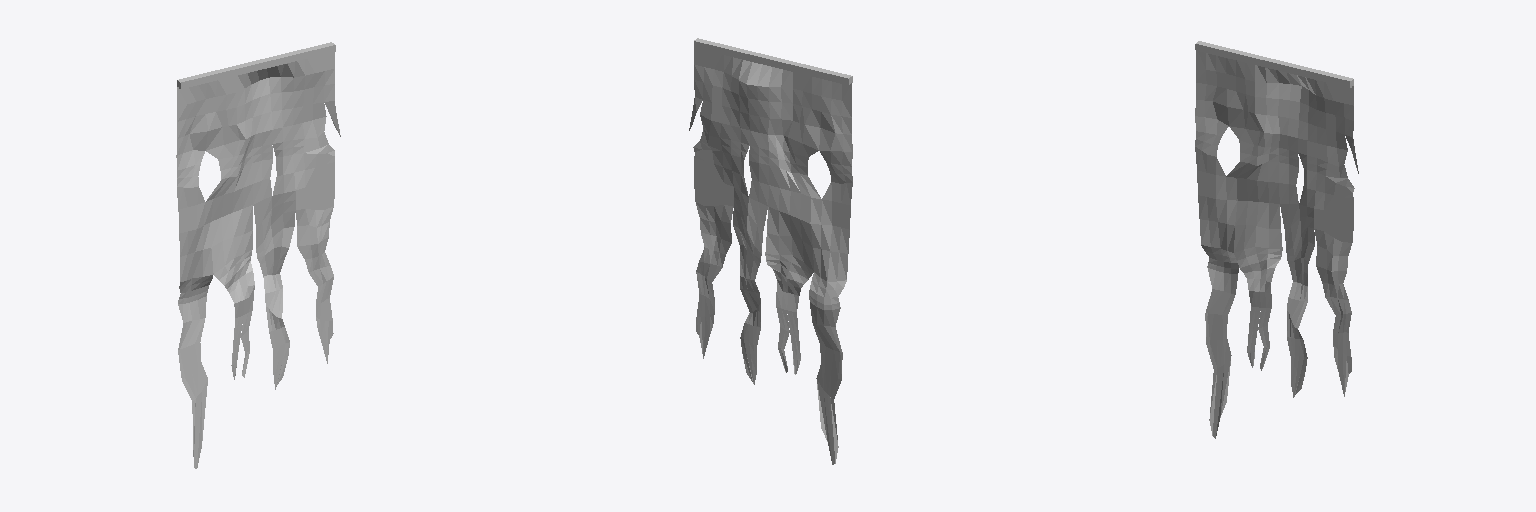
File: flag.obj
The picture shows the model from 3 angles: view 1: azimuth 30°, elevation 25°; view 2: azimuth 150°, elevation 25°; view 3: azimuth 330°, elevation 25°; orthographic projection.
Visible parts, largest first — view 1: Flag, Pole; view 2: Flag, Pole; view 3: Flag, Pole.
Boxes of the visible parts, x1,y1,x2,y2 form: Flag: [176, 52, 340, 468]; Pole: [177, 42, 335, 88]; Flag: [689, 48, 852, 464]; Pole: [694, 38, 852, 84]; Flag: [1195, 51, 1358, 438]; Pole: [1195, 41, 1353, 87].
Bounding box in the file's own units: 4.82 × 10.98 × 0.5323.